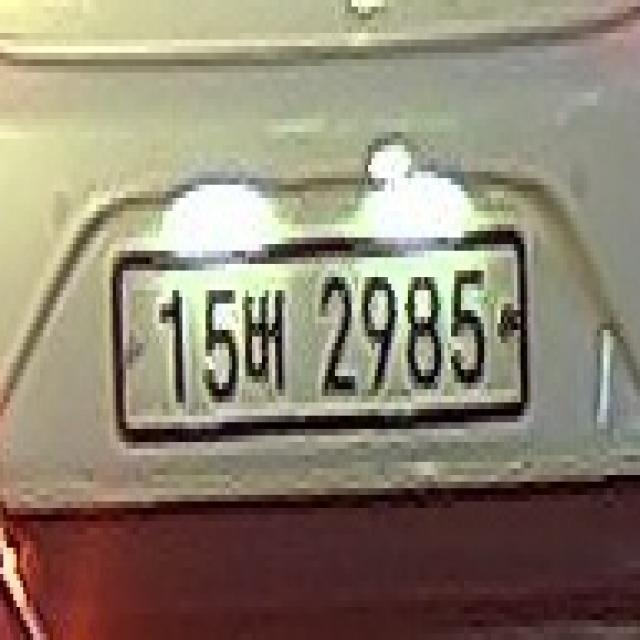1: (152, 277, 192, 416)
2: (315, 264, 358, 409)
5: (444, 258, 494, 402), (196, 277, 242, 416)
8: (402, 250, 444, 402)
9: (358, 257, 401, 396)
beo: (242, 271, 292, 409)
license_plate: (103, 211, 537, 469)
